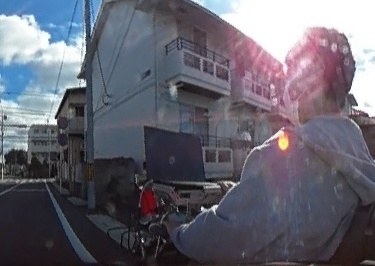person: (173, 26, 372, 266)
